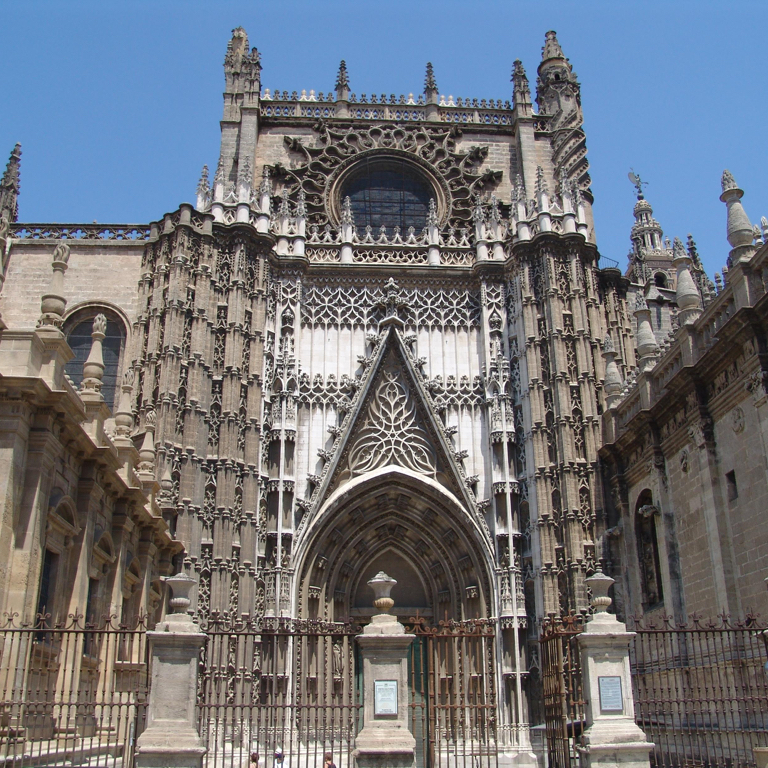arco-apuntado: (290, 463, 495, 614)
arco-medio-punto: (61, 298, 132, 343)
pinaculo-gotico: (1, 136, 29, 222), (509, 52, 531, 92), (421, 58, 441, 99), (194, 160, 214, 199), (333, 56, 352, 96), (338, 192, 357, 232), (423, 194, 442, 231), (532, 162, 551, 199), (510, 170, 528, 204), (558, 163, 573, 202), (486, 192, 502, 226), (470, 191, 485, 226), (295, 185, 309, 222), (277, 186, 292, 220), (258, 163, 272, 198)
